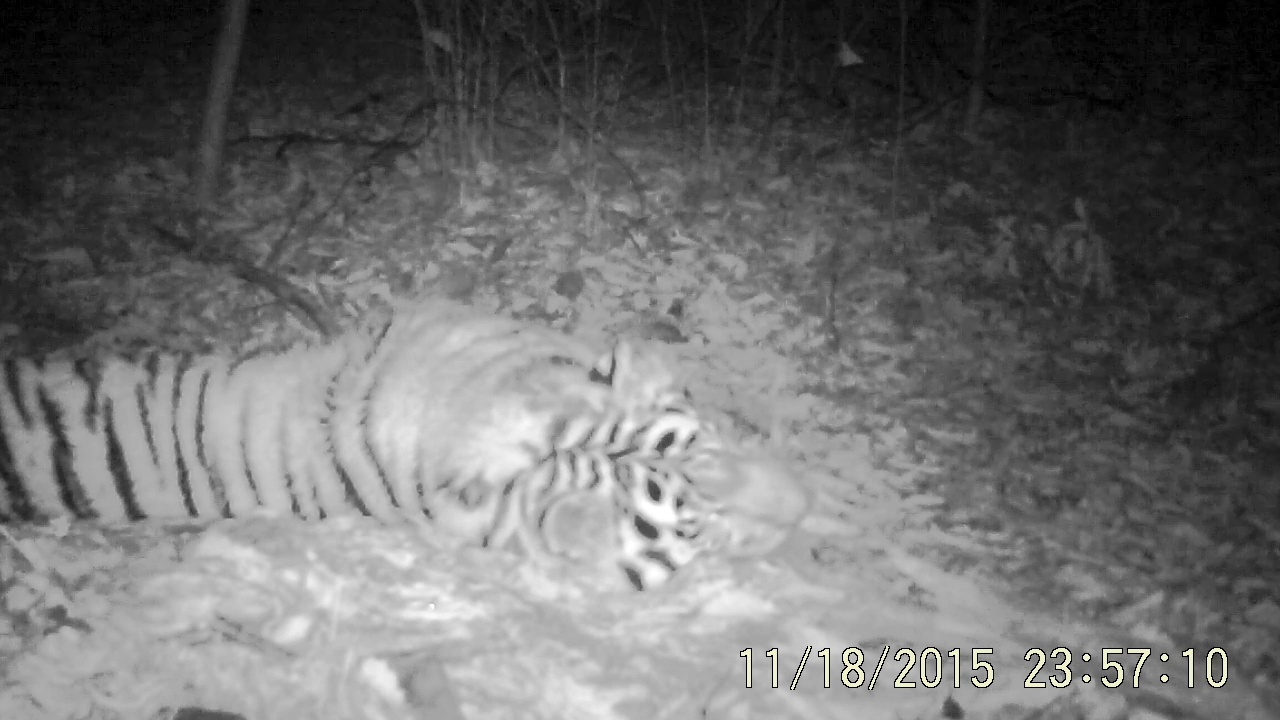Tiger: (2, 138, 806, 619)
